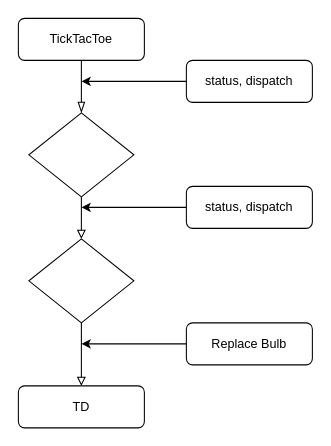
Some shapes in this 331 by 446 pixel diagram are drawn without their labels. Here are the shapes that lost their labels. From the top down, the centre of each, then its label:
At pixel 81 154: "Table".
At pixel 81 280: "TR".
